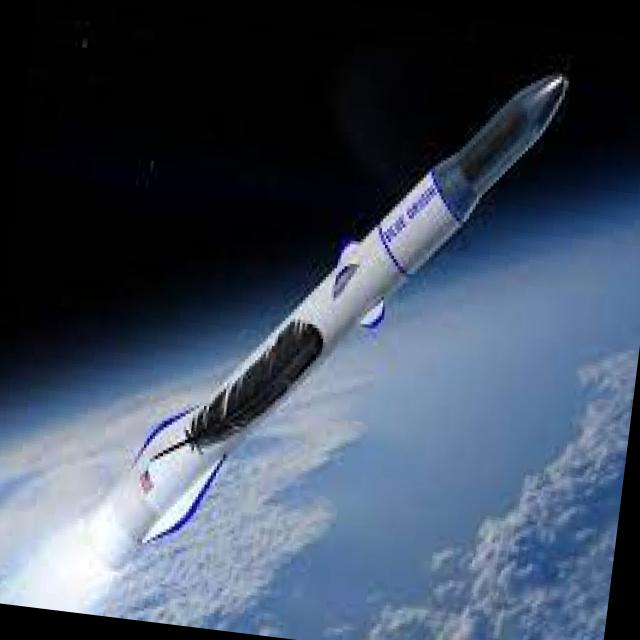rocket: (95, 29, 568, 633)
